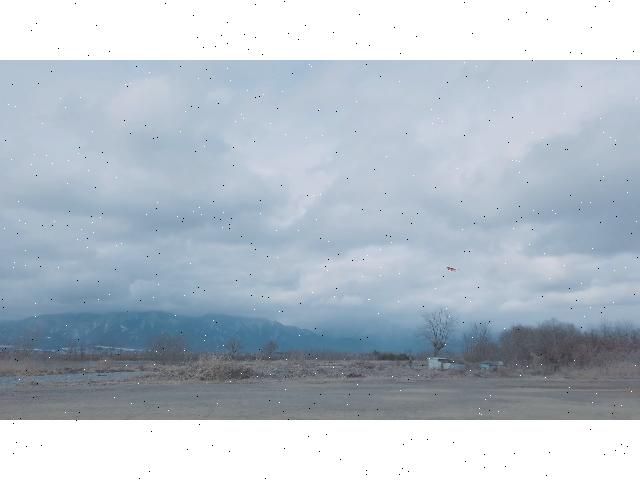Anti-Drone: (440, 262, 462, 275)
